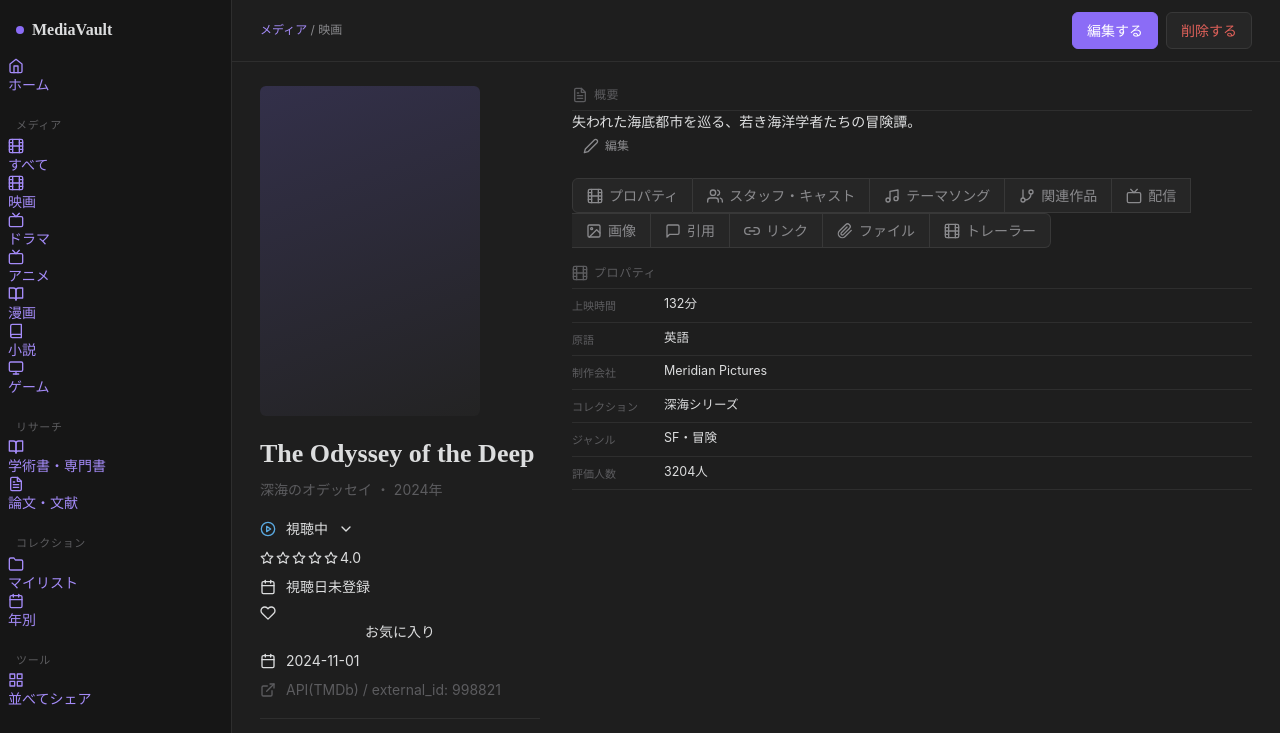
Test: MovieDetailPage › renders the theme song tab with its links
Click the button "テーマソング".
click(938, 196)  # box [870,178,1005,213]
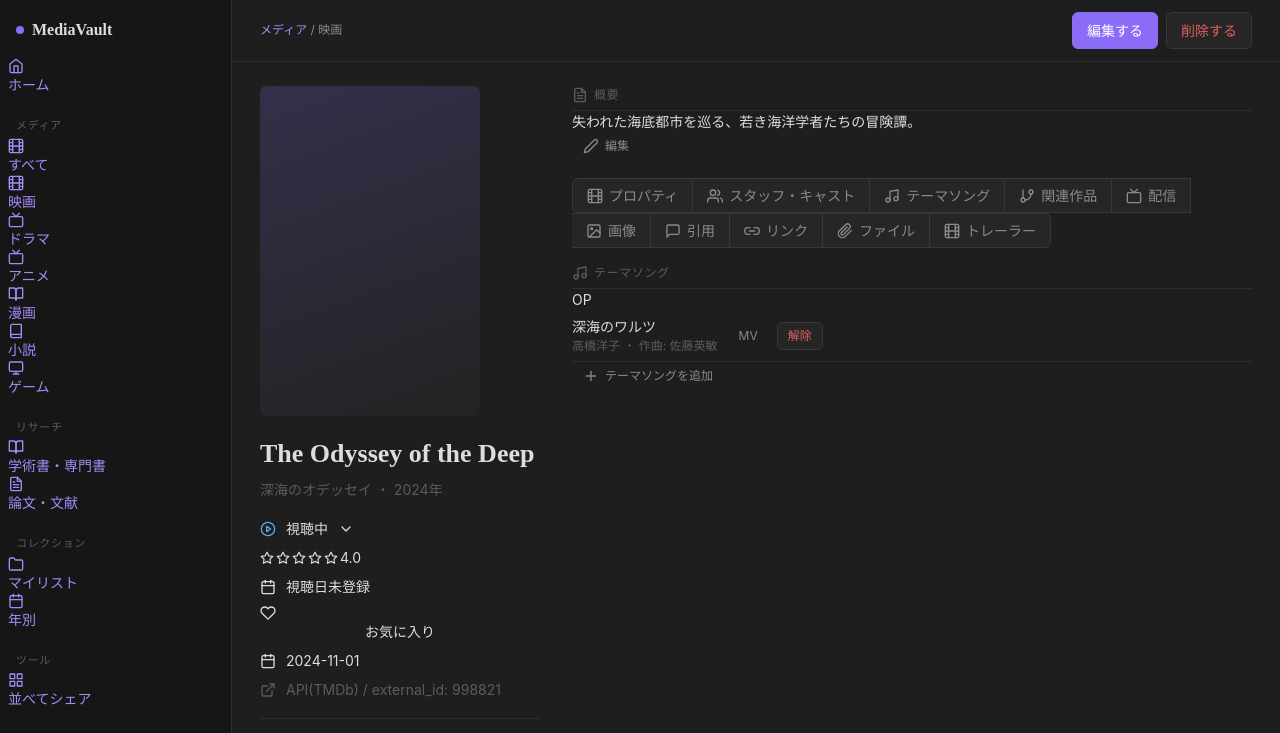
Now the text "深海のワルツ" is shown, box [572,318,656,335]
Now the text "高橋洋子 ・ 作曲: 佐藤英敏" is shown, box [572,337,718,355]
